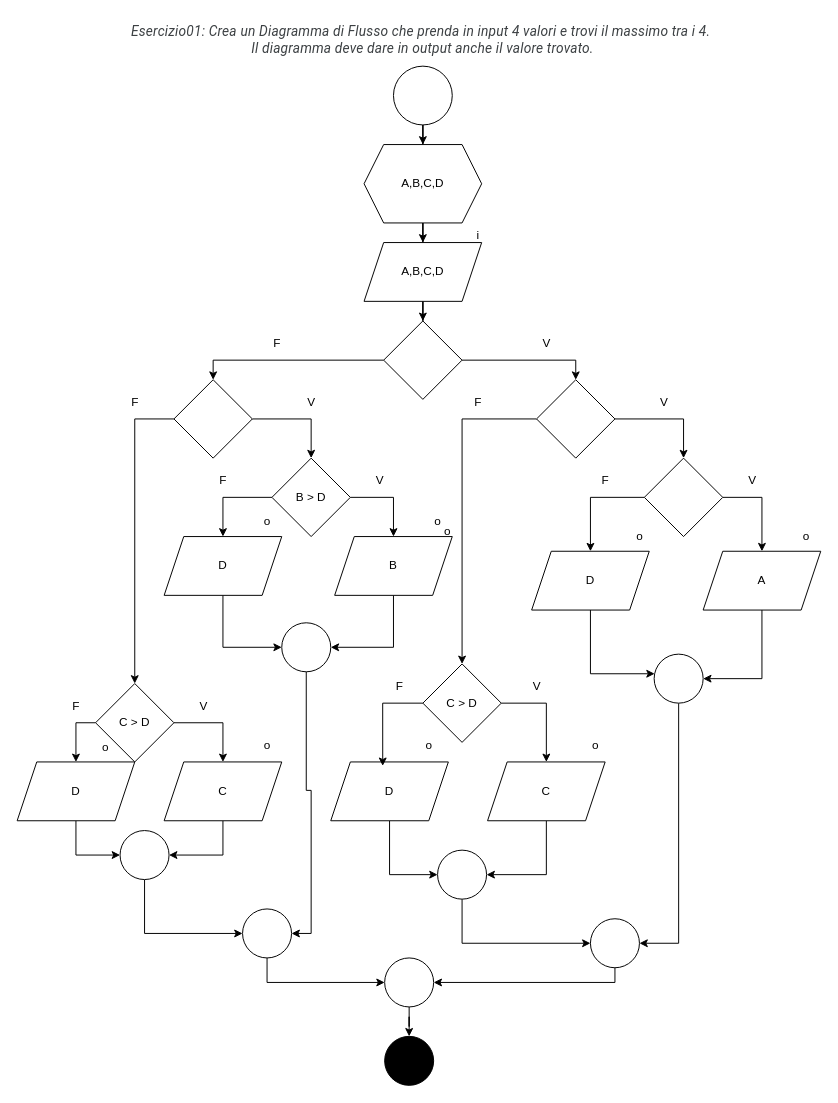
The diagram is 838 pixels wide and 1103 high, and some of its shapes have lost their labels. Here are the shapes that lost their labels. From the top down, the centre of each, then its label:
(x=422, y=359): A > B
(x=212, y=418): B > C
(x=575, y=418): A > C
(x=683, y=497): A > D
